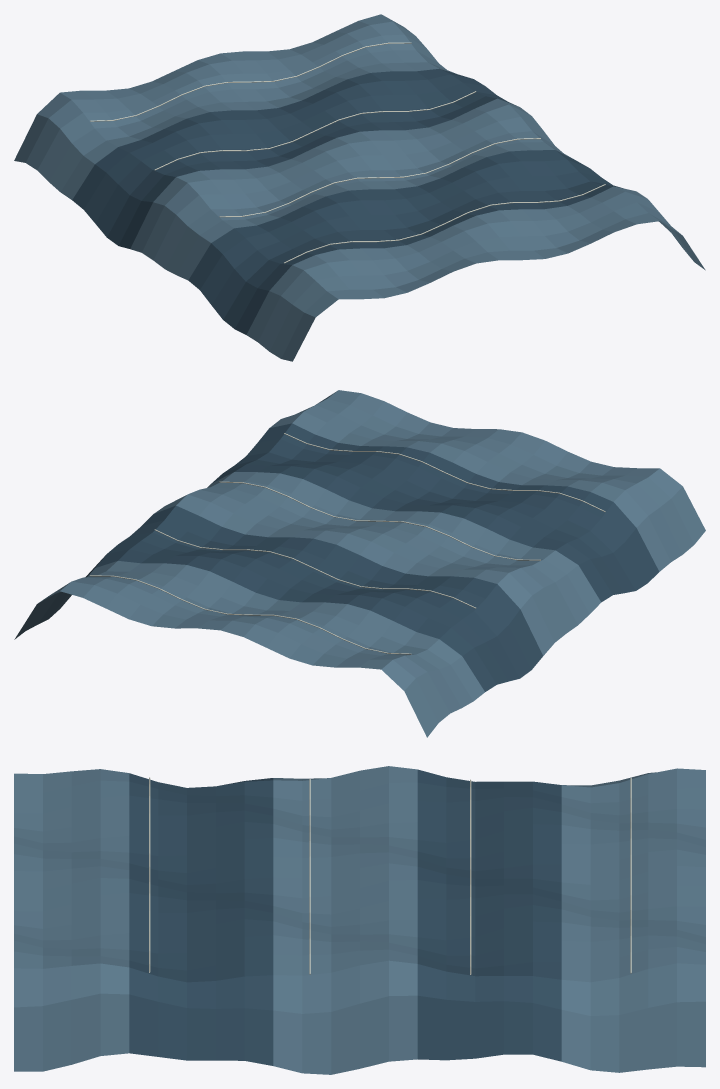
Rendered from duvet.glb.
3 renders of one model, top to bottom at view 1: azimuth 30°, elevation 25°; view 2: azimuth 150°, elevation 25°; view 3: azimuth 270°, elevation 25°, orthographic. The views are drawn at different scales.
Visible parts, largest first — view 1: duvet_Mesh; view 2: duvet_Mesh; view 3: duvet_Mesh.
Part boxes in pixels (<box>): duvet_Mesh: <box>14,14,705,361</box>; duvet_Mesh: <box>14,390,705,737</box>; duvet_Mesh: <box>14,766,705,1074</box>.
Size of the model in its own units: 1.66 by 0.2676 by 1.94.
